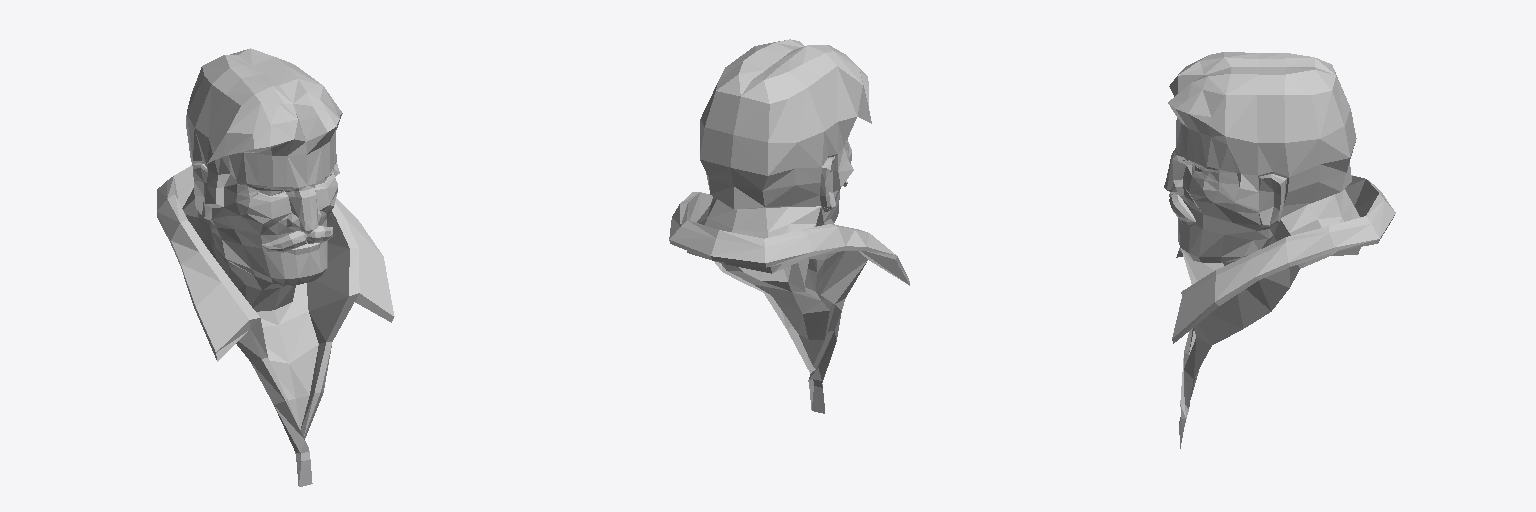
File: head.obj
3 renders of one model, left to right at view 1: azimuth 30°, elevation 25°; view 2: azimuth 150°, elevation 25°; view 3: azimuth 270°, elevation 25°, orthographic.
Parts seen in each view (by area): view 1: Salazar_Geo1; view 2: Salazar_Geo1; view 3: Salazar_Geo1.
Part boxes in pixels (bbox=[...]): Salazar_Geo1: bbox=[157, 48, 394, 486]; Salazar_Geo1: bbox=[669, 39, 909, 413]; Salazar_Geo1: bbox=[1164, 52, 1395, 448].
Size of the model in its own units: 32.59 by 63.29 by 34.45.